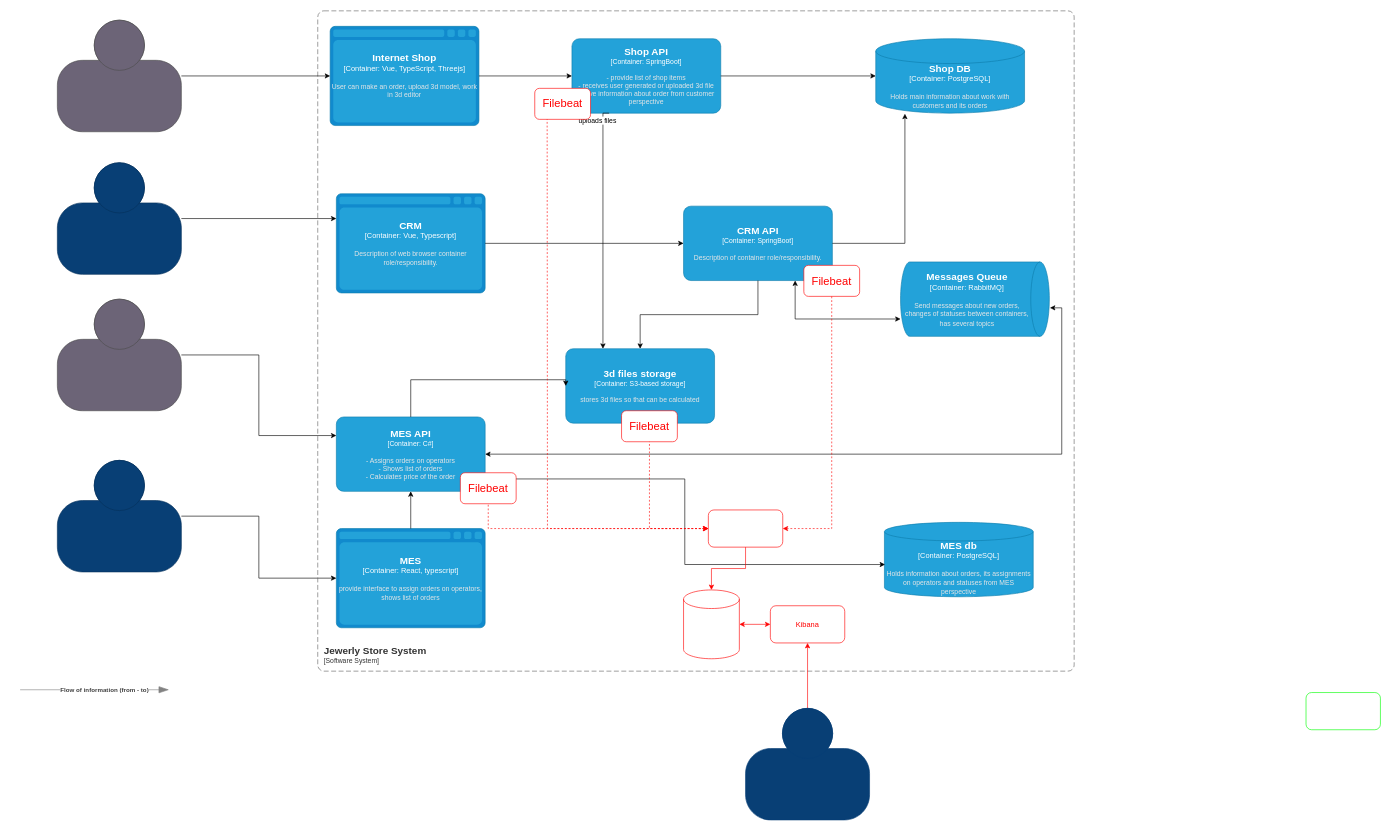
Image size: 1391x831. Some labels were removed from this diagram. Each missing label, with the centre of its shape:
"API user [Person] Description of external person." belongs at pixel 119 355.
"Customer [Person] Description of external person." belongs at pixel 119 76.
"DevOps [Person] Check Logs" belongs at pixel 807 764.
"Jager UI" belongs at pixel 1342 711.
"Logstach" belongs at pixel 745 528.
"OpenSerch" belongs at pixel 711 624.
"Operator [Person] Takes order in work, manufactures jewerly" belongs at pixel 119 516.
"Seller [Person] Operates with order, confirms manufacturing for the user" belongs at pixel 119 218.
